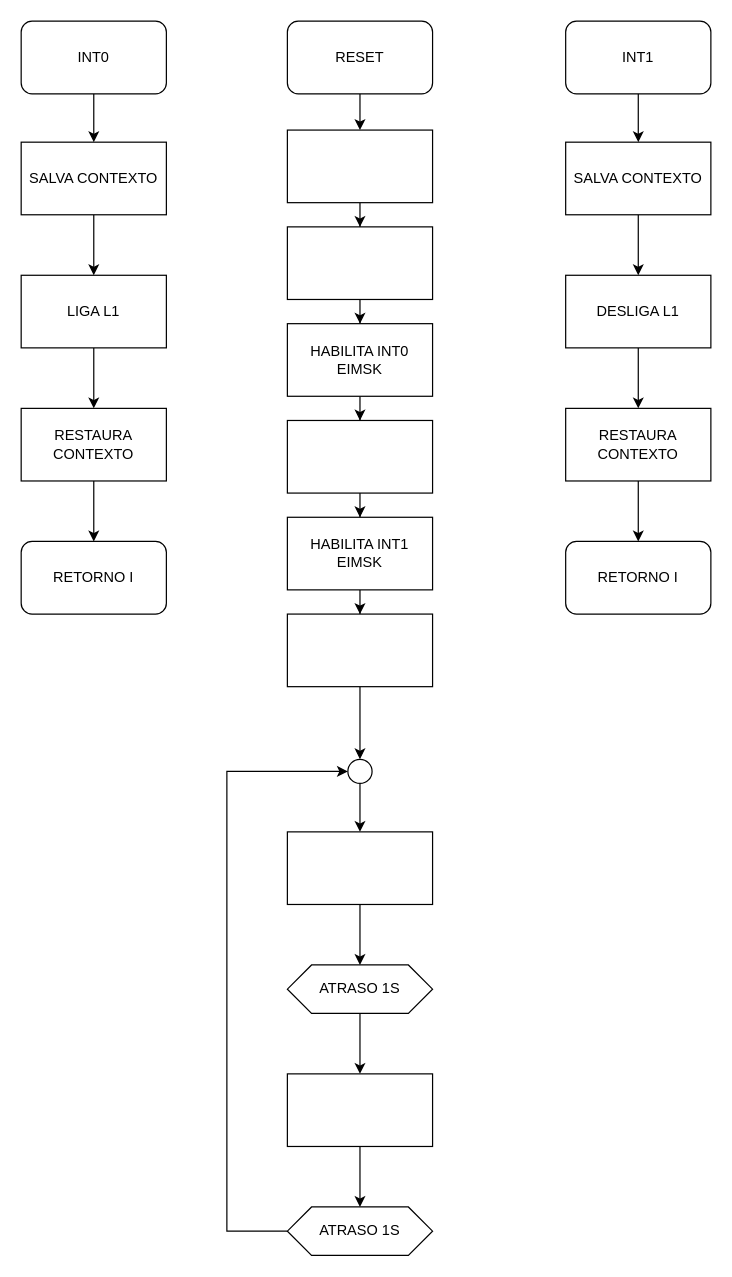
This 732x1277 diagram has some shape labels left out. Here are the shapes that lost their labels. From the top down, the centre of each, then its label:
[359,166]: CONFIGURA PINOS
[359,262]: CONFIGURA INT0 COMO BORDA DE DESCIDA EICRA
[359,456]: CONFIGURA INT1 BORDA DE DESCIDA EICRA
[359,650]: HABILITA I GLOBAL SEI
[359,867]: LIGA L0
[359,1109]: DESLIGA L0
